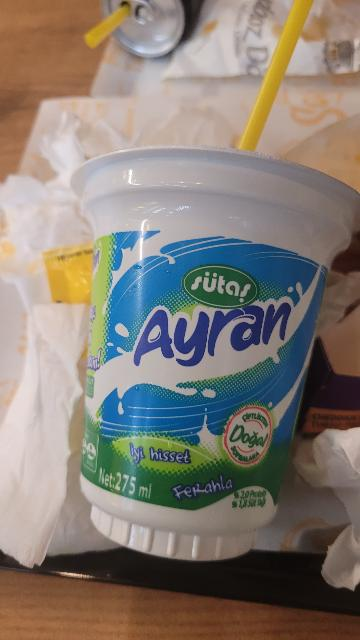Plastik: (56, 139, 330, 562), (223, 2, 319, 164)
